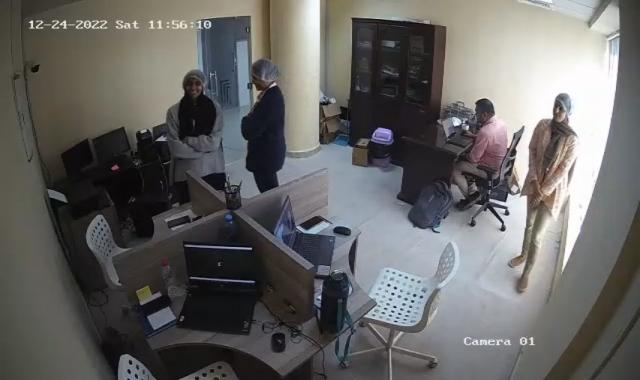hairnet: (247, 58, 280, 91), (180, 68, 207, 102), (550, 92, 575, 127)
no_hairnet: (471, 98, 496, 123)
